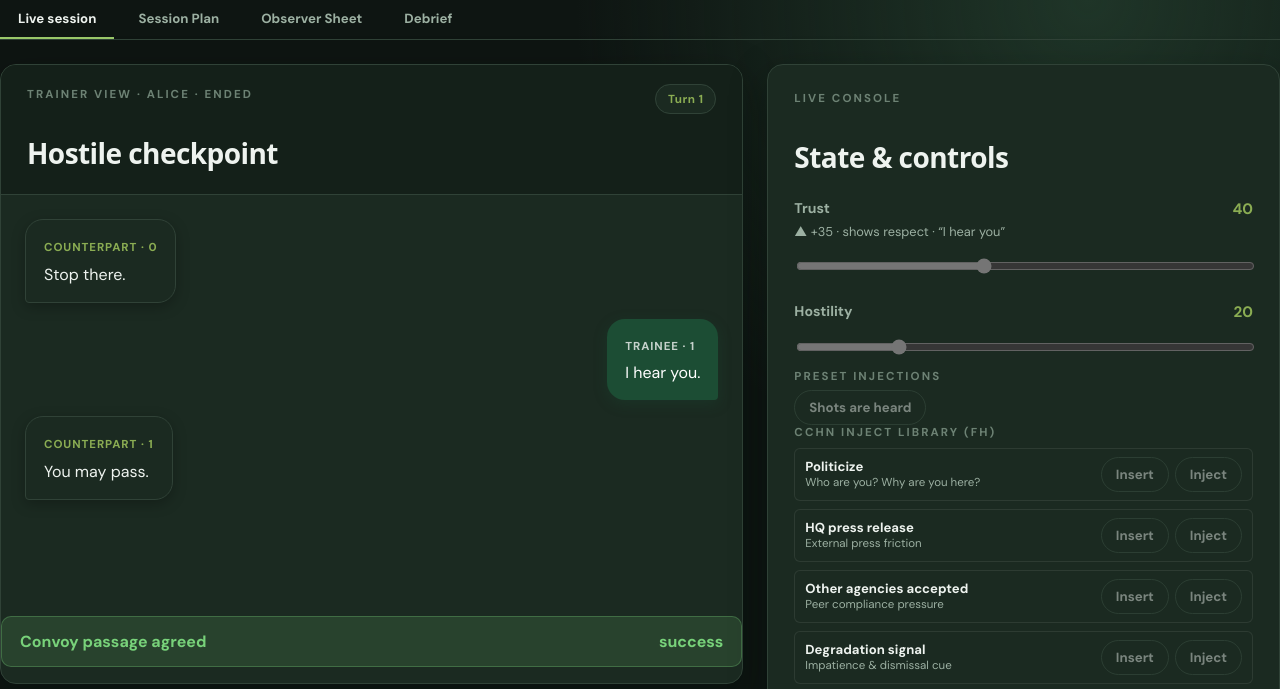
Watch: polling › does not retry an initial terminal debrief failure
Click the tab "Debrief". click: [428, 20]
box: [386,0,470,39]
Wait 12000 ms
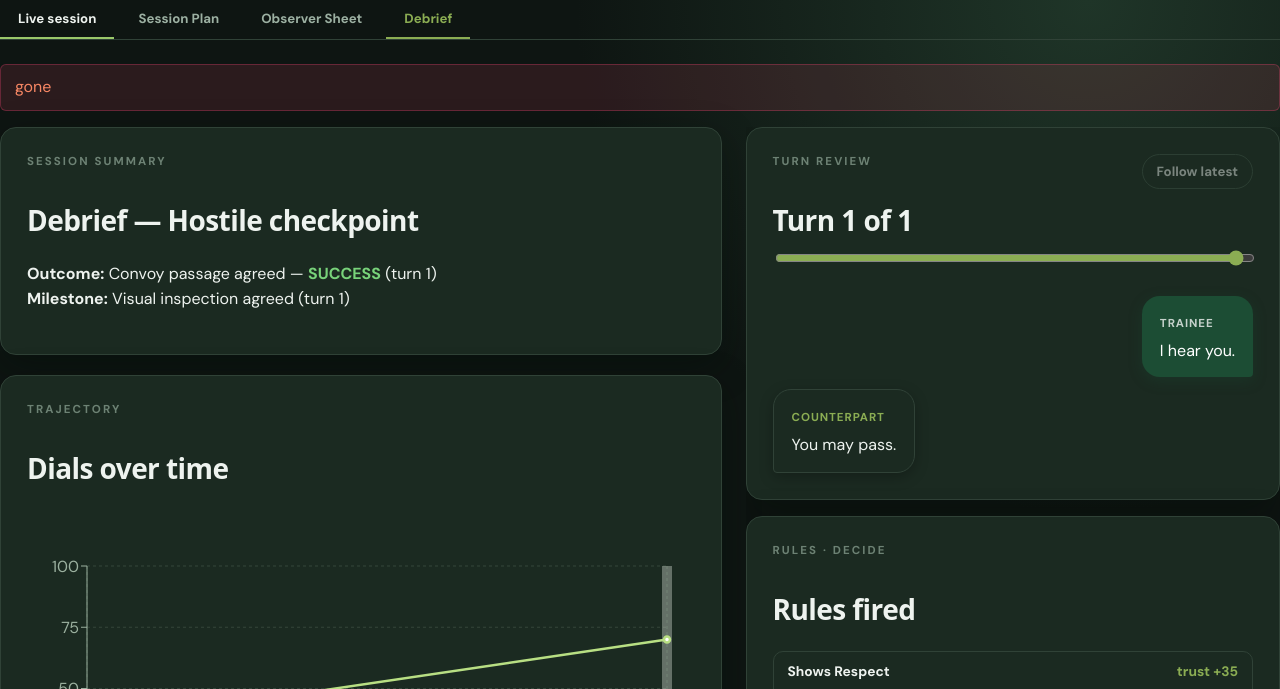
Result: the message reads "gone" at [15,76,51,97]
